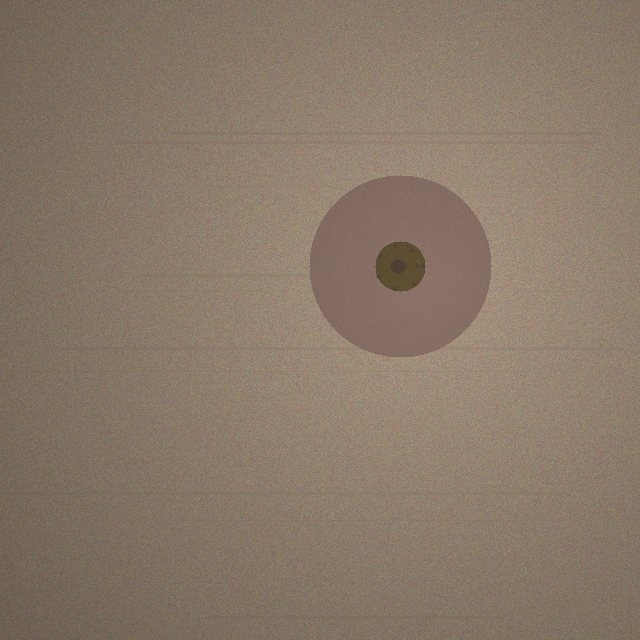cold_weld: (309, 175, 491, 357)
